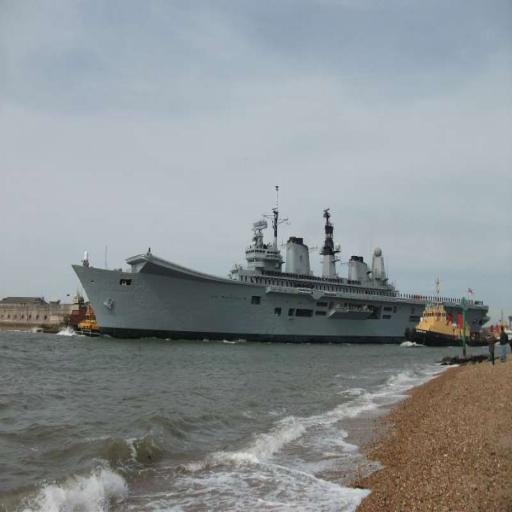Portanaves: (69, 180, 494, 342)
